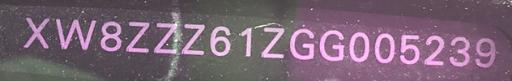letter: (54, 16, 96, 49), (20, 15, 52, 50), (318, 26, 346, 63), (258, 25, 288, 58), (123, 20, 151, 55), (152, 20, 180, 55), (178, 21, 206, 56), (288, 25, 316, 60), (208, 23, 234, 58), (99, 19, 125, 52), (372, 32, 398, 65), (397, 31, 421, 66), (423, 33, 447, 68), (474, 36, 498, 69), (348, 29, 370, 64), (448, 33, 470, 68), (238, 25, 254, 58)
